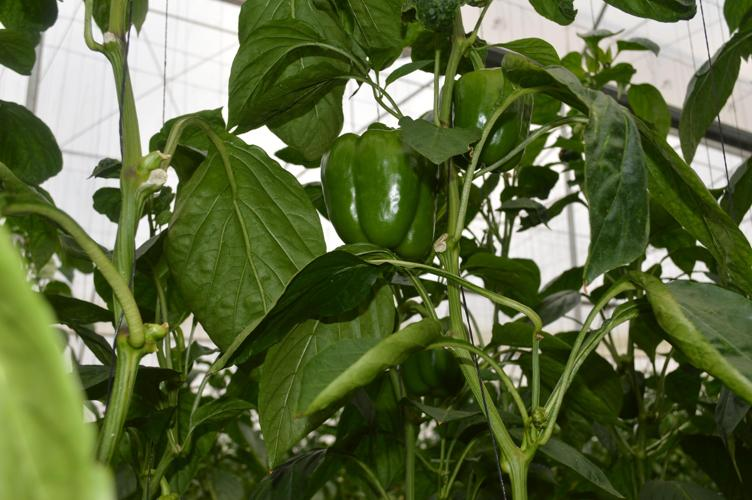BellPepper: (322, 129, 435, 261), (453, 67, 530, 176), (400, 318, 467, 397)
